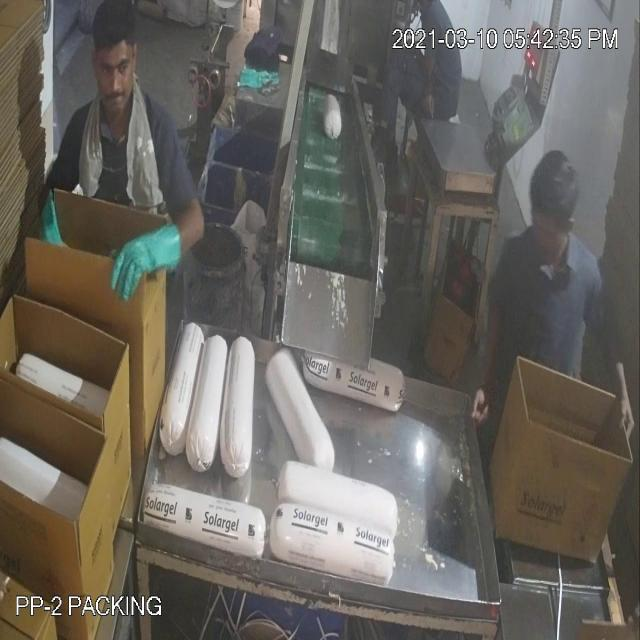gloves: (98, 208, 196, 324)
no-gloves: (468, 282, 514, 431), (598, 304, 638, 472)
